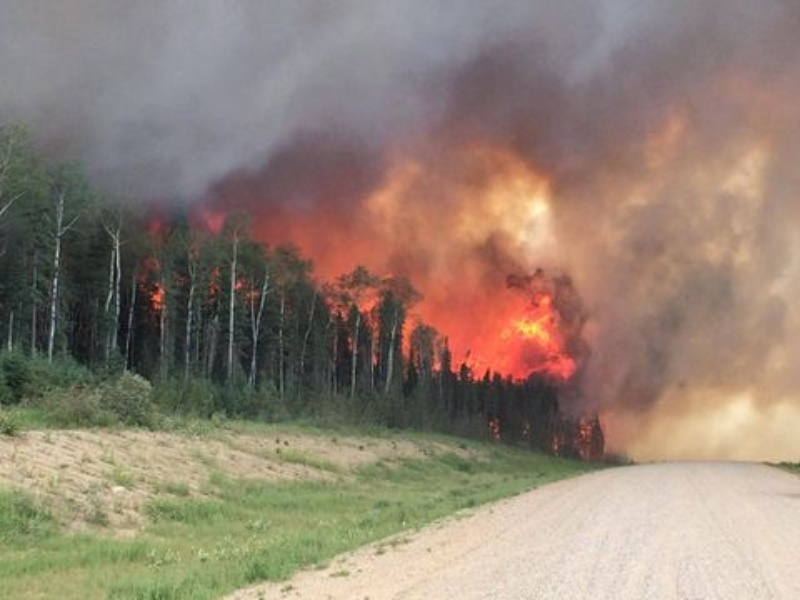smoke: (3, 1, 776, 177)
